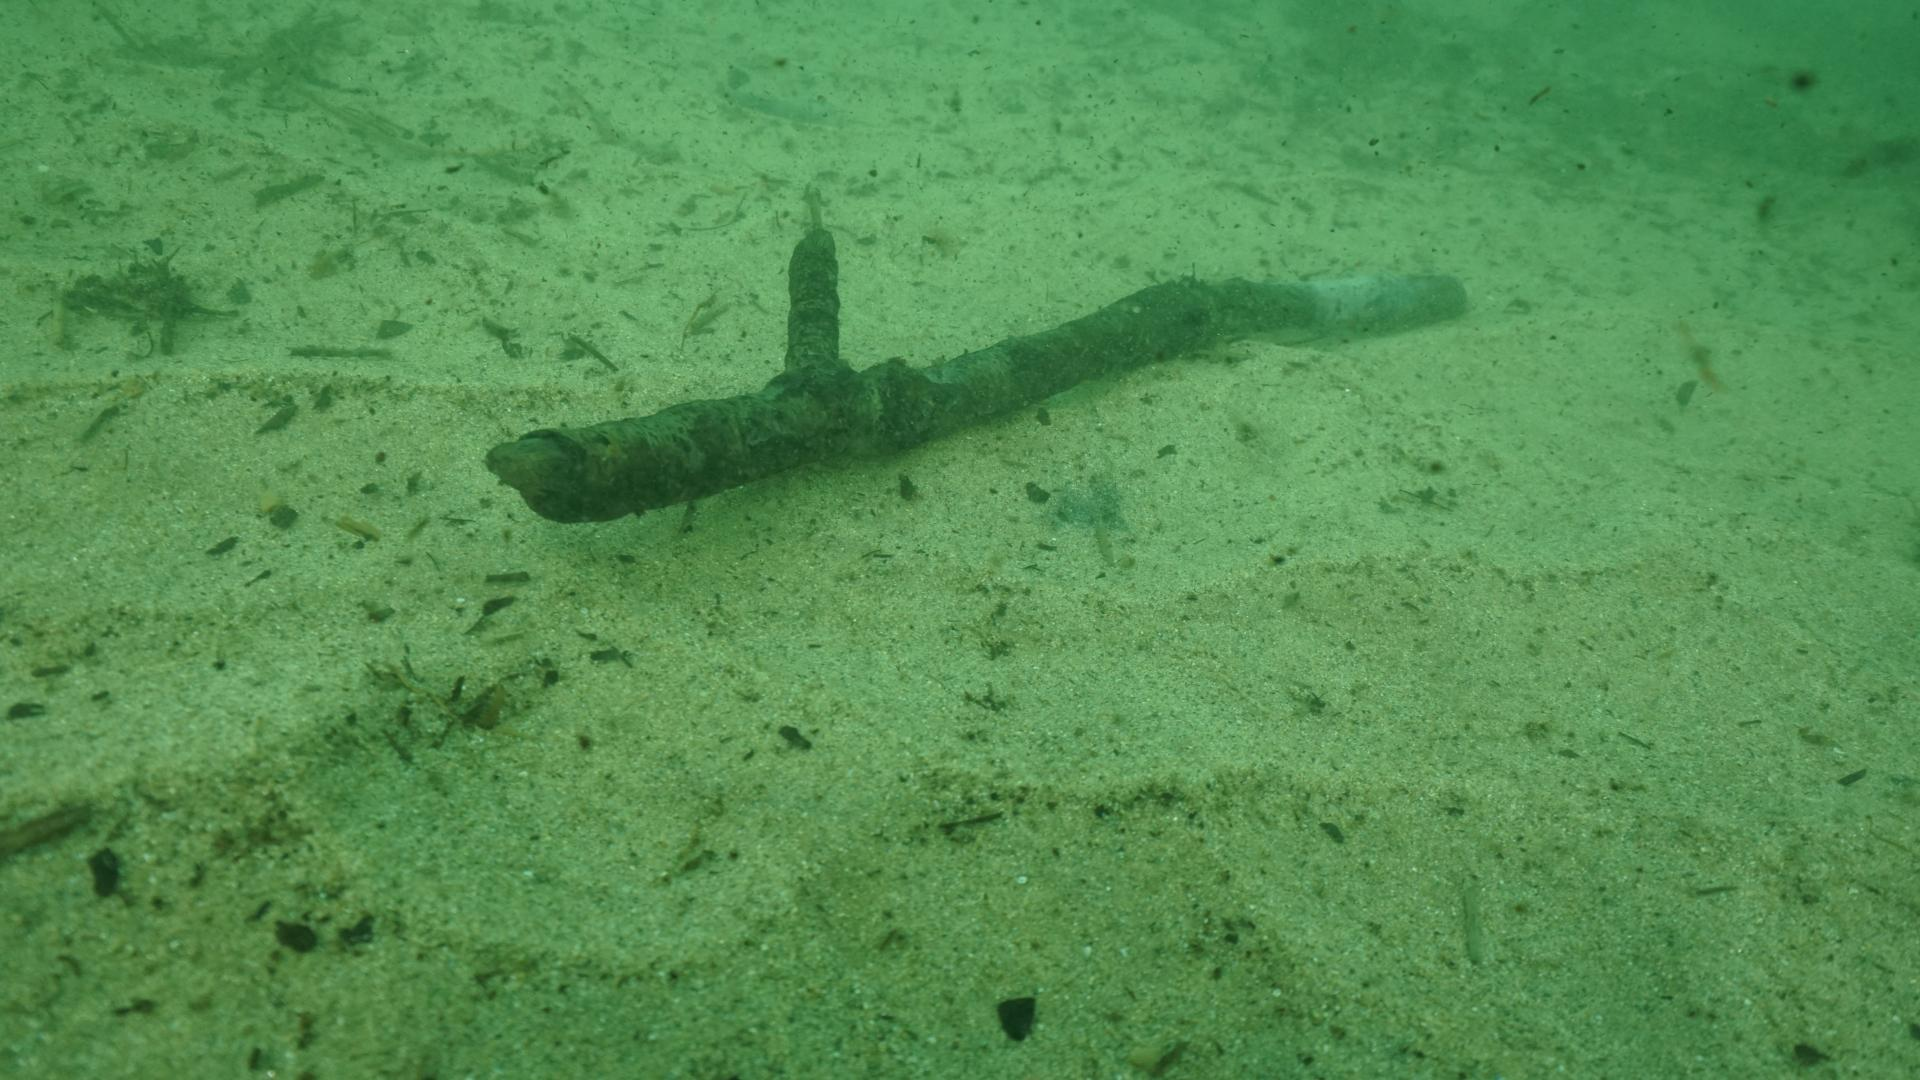wood: (481, 223, 1466, 526)
